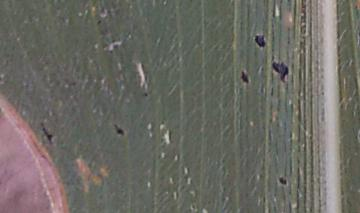tarspot: (270, 61, 290, 84), (40, 126, 54, 144), (253, 33, 267, 48), (112, 122, 125, 135), (239, 70, 250, 85), (277, 175, 288, 186), (94, 19, 102, 26), (143, 91, 149, 98)
